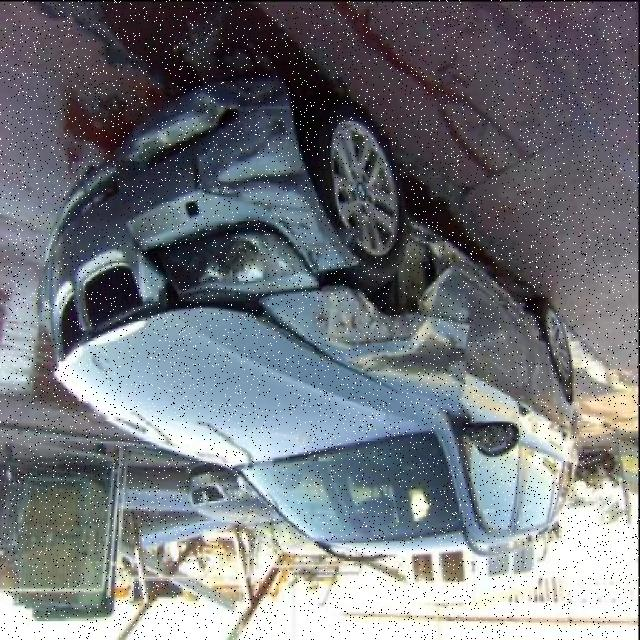damage: (194, 78, 362, 271), (324, 222, 473, 373), (145, 211, 327, 295), (470, 331, 542, 391), (471, 264, 525, 319), (450, 362, 468, 382)
